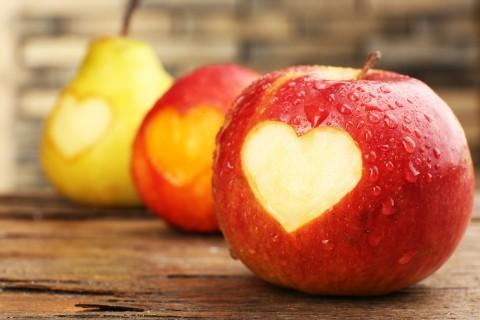apple: (211, 63, 474, 298)
